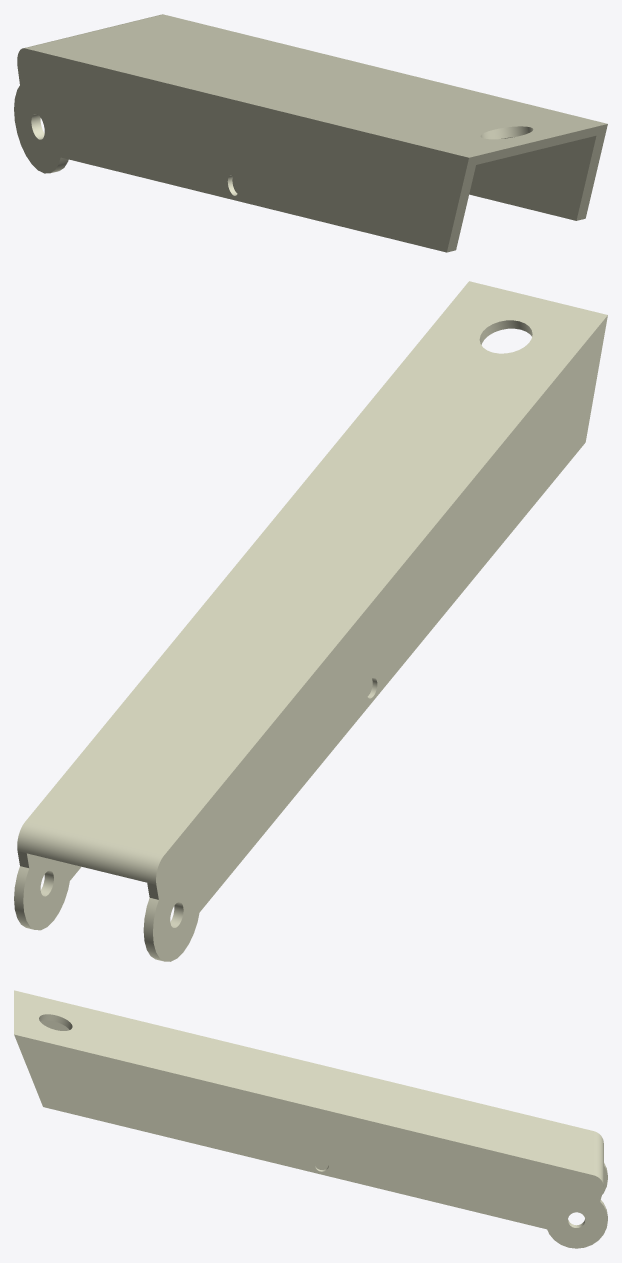
The model's file is original-4.obj.
The picture shows the model from 3 angles, top to bottom: view 1: azimuth 30°, elevation 25°; view 2: azimuth 150°, elevation 25°; view 3: azimuth 270°, elevation 25°; orthographic projection. The views are drawn at different scales.
Parts seen in each view (by area): view 1: Group4/mesh12/mesh12-geometry#mesh12-geometry; view 2: Group4/mesh12/mesh12-geometry#mesh12-geometry; view 3: Group4/mesh12/mesh12-geometry#mesh12-geometry.
Part boxes in pixels (bbox=[...]): Group4/mesh12/mesh12-geometry#mesh12-geometry: bbox=[14, 14, 607, 252]; Group4/mesh12/mesh12-geometry#mesh12-geometry: bbox=[14, 281, 607, 961]; Group4/mesh12/mesh12-geometry#mesh12-geometry: bbox=[14, 990, 607, 1248].
Size of the model in its own units: 0.2722 by 0.6148 by 1.55.
